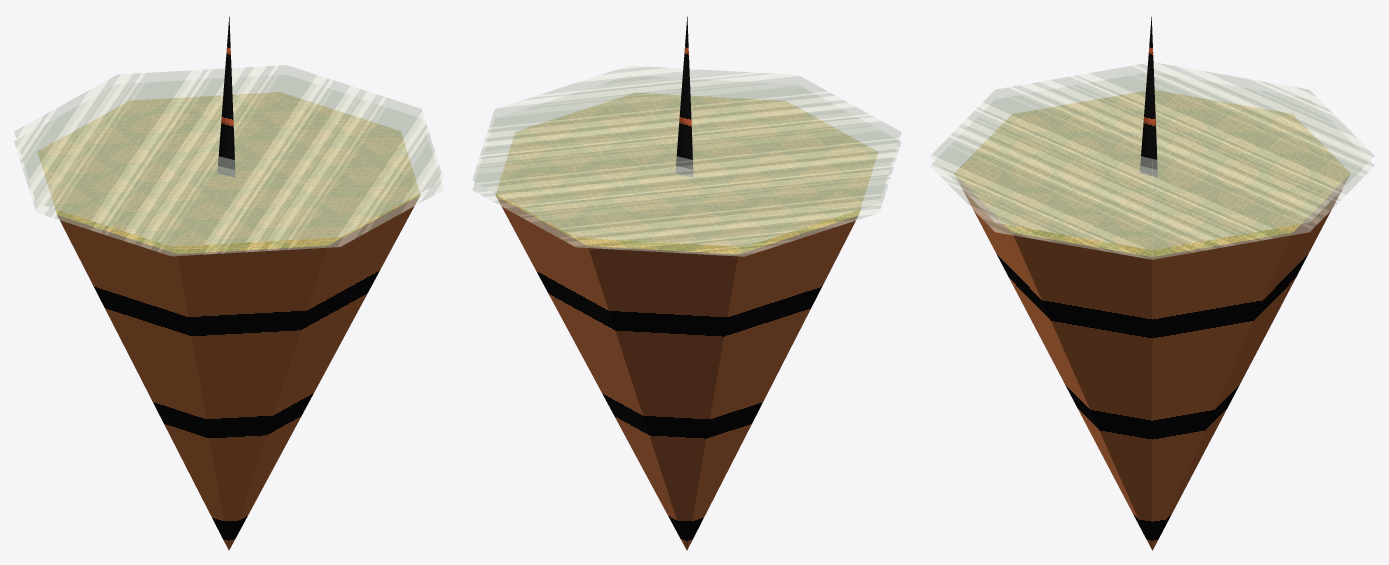
The picture shows the model from 3 angles, left to right: view 1: azimuth 30°, elevation 25°; view 2: azimuth 150°, elevation 25°; view 3: azimuth 270°, elevation 25°; orthographic projection.
Parts seen in each view (by area): view 1: 3593kg_04_ta0; view 2: 3593kg_04_ta0; view 3: 3593kg_04_ta0.
Boxes of the visible parts, <box> form: 3593kg_04_ta0: <box>14,16,443,550</box>; 3593kg_04_ta0: <box>472,16,901,550</box>; 3593kg_04_ta0: <box>930,16,1374,550</box>.
Bounding box in the file's own units: 2.01 × 2.67 × 2.01.
3 materials, 3 textured.
